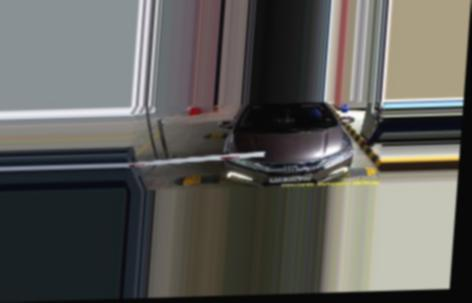License_Plate: (271, 172, 312, 186)
